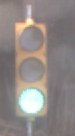Green: (5, 16, 65, 126)
